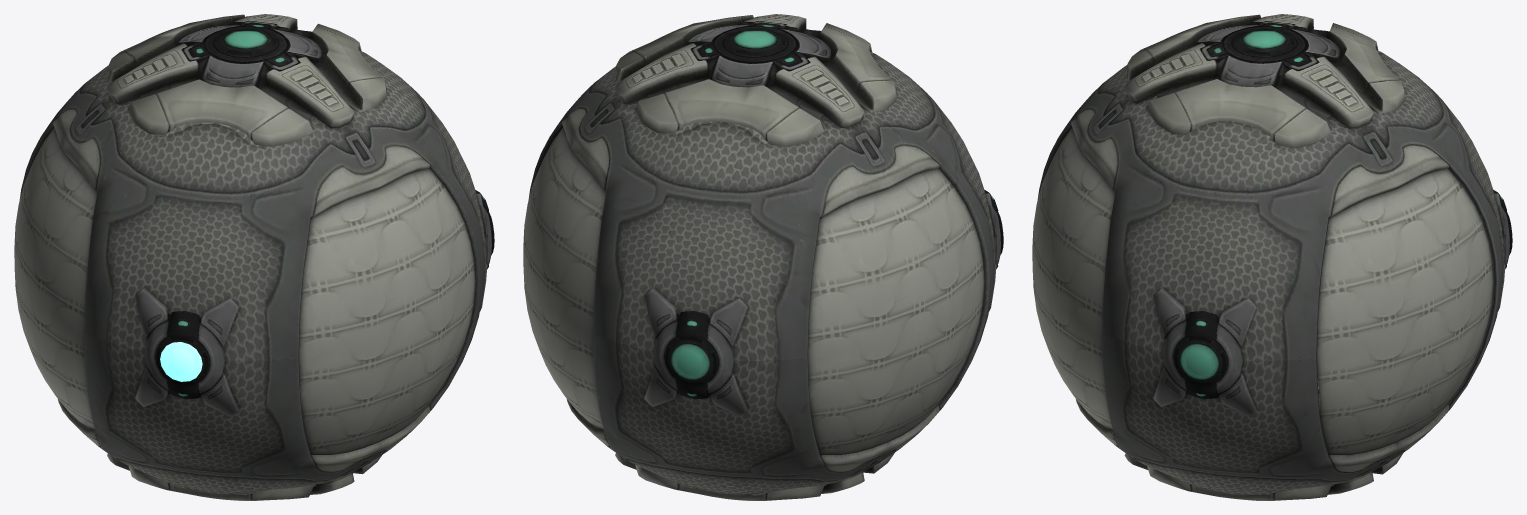
3 renders of one model, left to right at view 1: azimuth 30°, elevation 25°; view 2: azimuth 150°, elevation 25°; view 3: azimuth 270°, elevation 25°, orthographic.
Visible parts, largest first — view 1: bola; view 2: bola; view 3: bola.
Part boxes in pixels (<box>): bola: <box>14,14,494,500</box>; bola: <box>523,14,1003,500</box>; bola: <box>1032,14,1512,500</box>.
Bounding box in the file's own units: 1.92 × 1.96 × 1.91.
2 materials, 1 textured.
